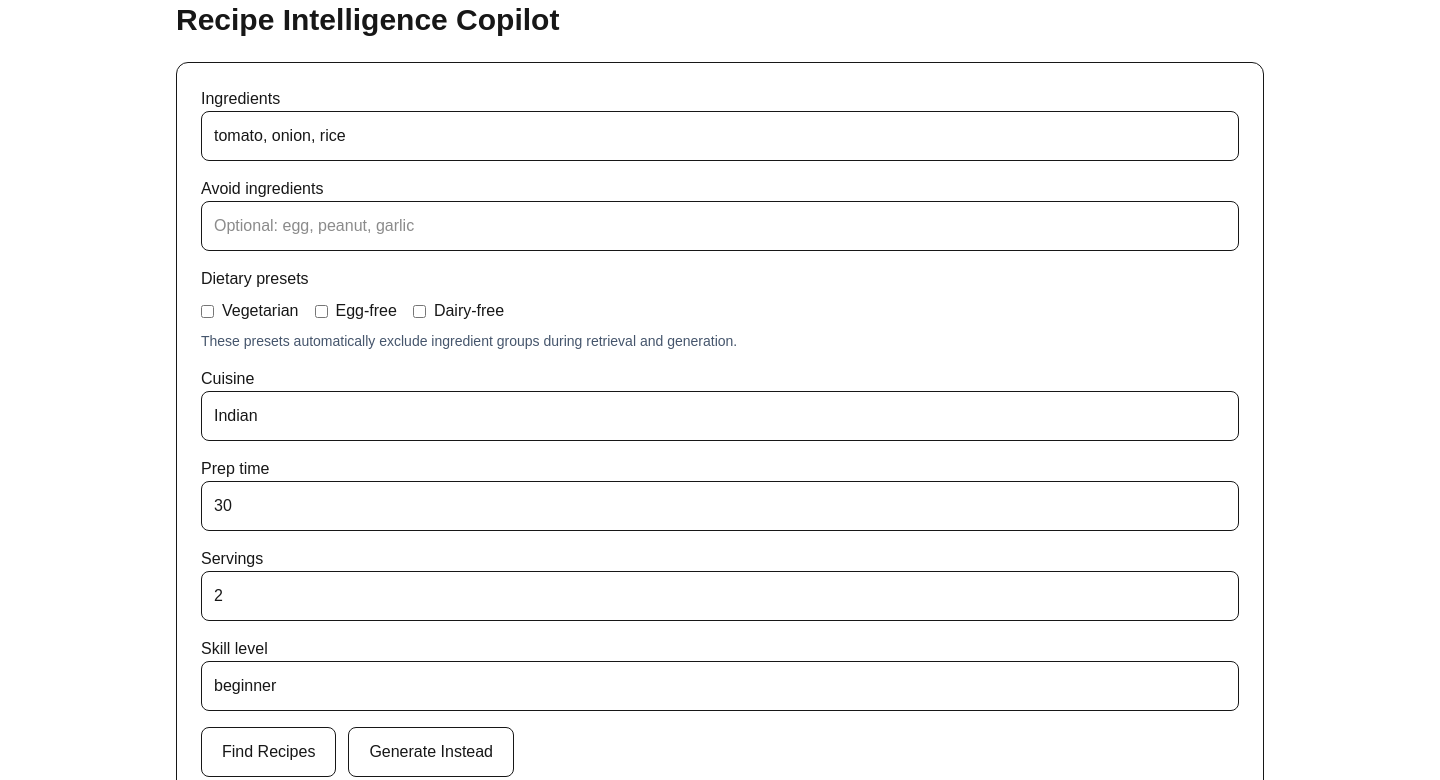
Recipe page › shows retrieval empty state when no recipes are returned
Replace the text in the field labelled "Ingredients" with "dragonfruit, cocoa" at coordinates (720, 136), box [201, 111, 1239, 161]
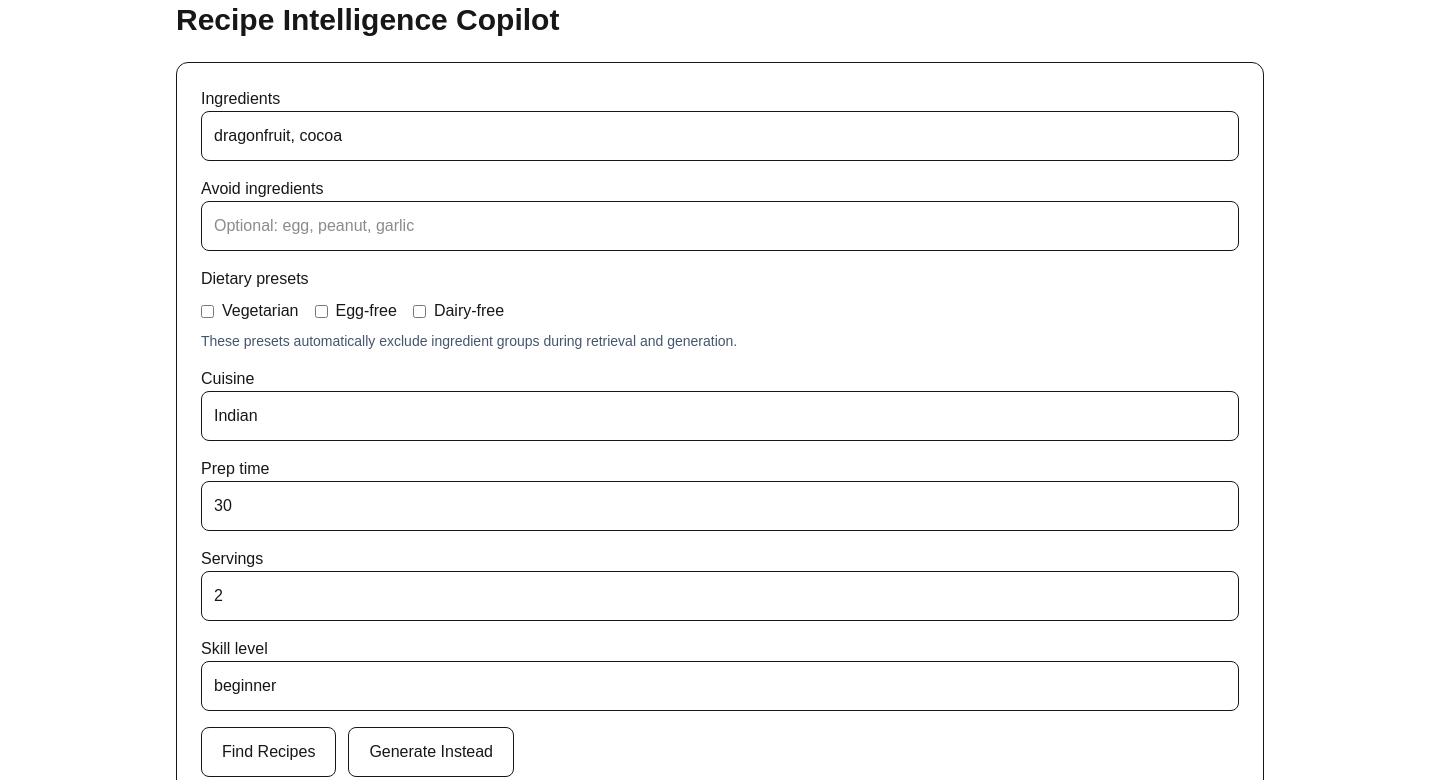
Click the button "Find Recipes" at coordinates (269, 752), box [201, 727, 336, 777]
(page scrolled)
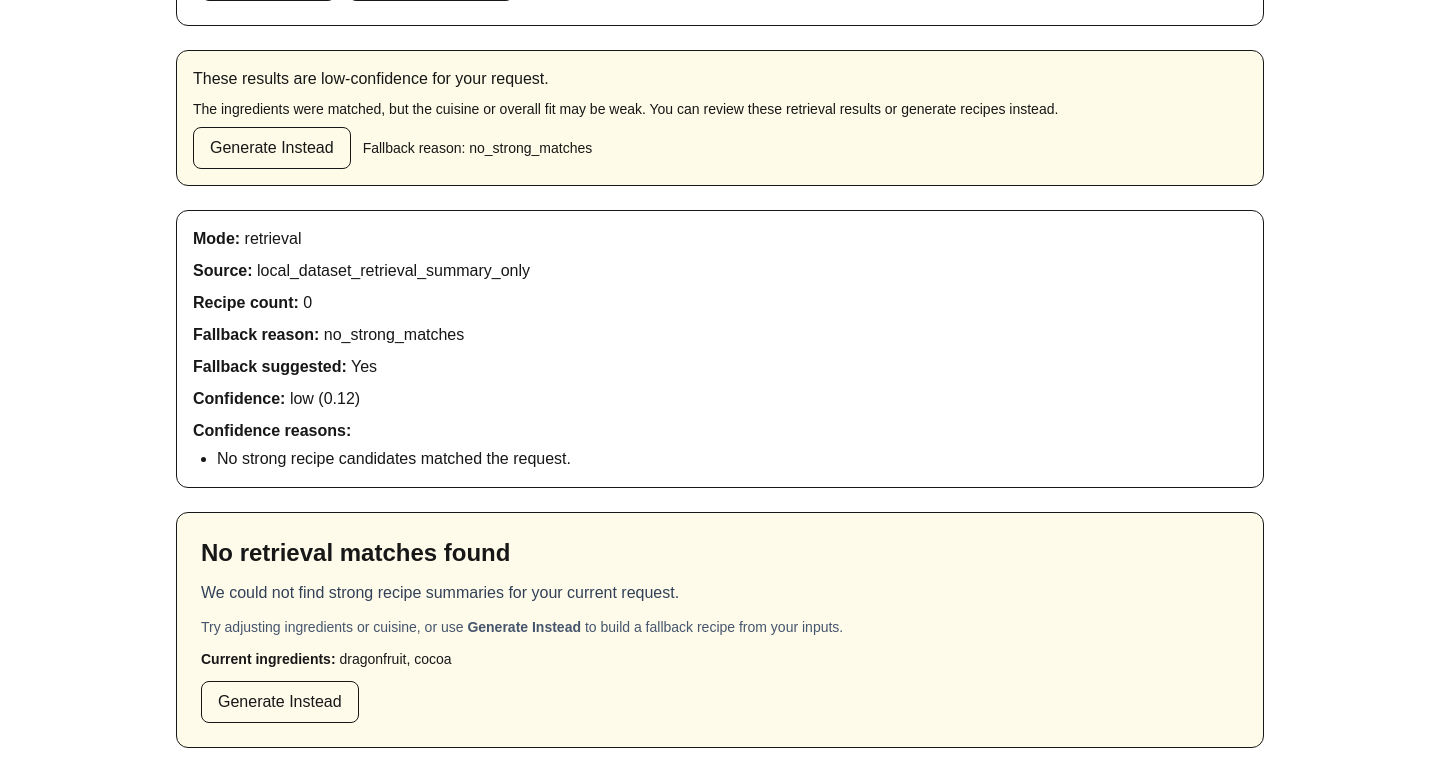
expect the element "No retrieval matches found" is shown: met, box [176, 512, 1264, 748]
expect the text "We could not find strong recipe summaries for your current request" is shown: met, box [201, 584, 679, 601]
expect the button "Generate Instead" below "Current ingredients:" is shown: met, box [201, 681, 359, 723]
